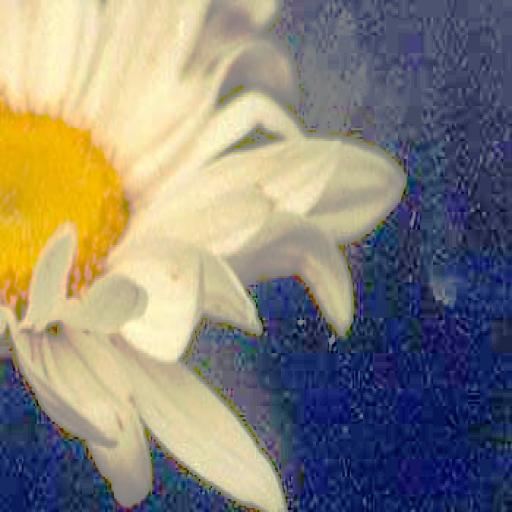tulip: (0, 0, 402, 512)
